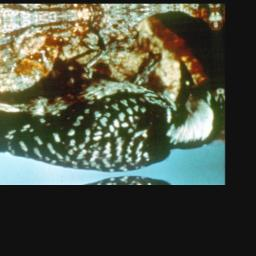Woodpecker: (0, 14, 223, 183)
